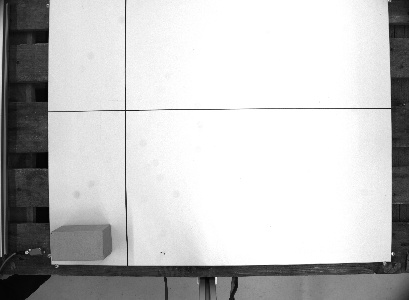b2: (48, 221, 114, 263)
